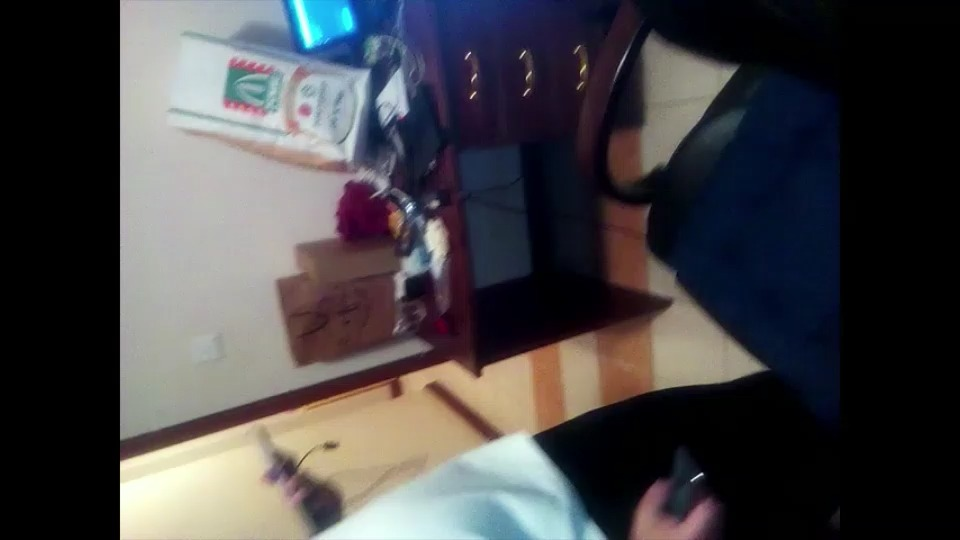maize_flour_green_label: (169, 30, 368, 175)
